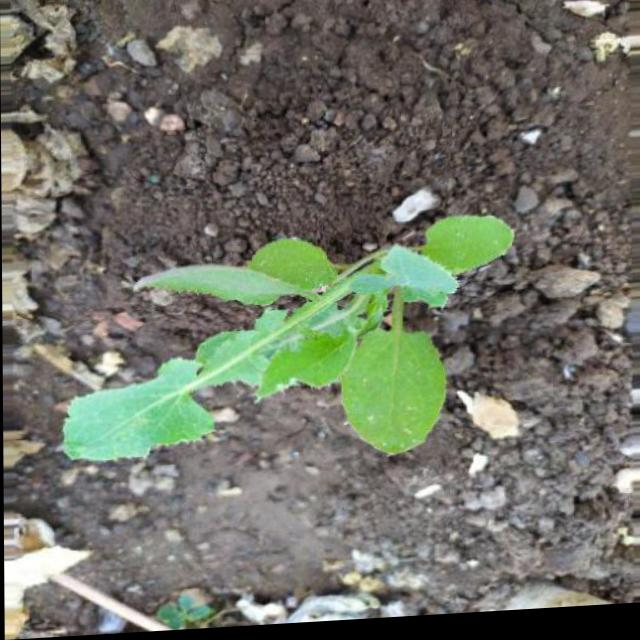weed: (51, 193, 529, 506)
